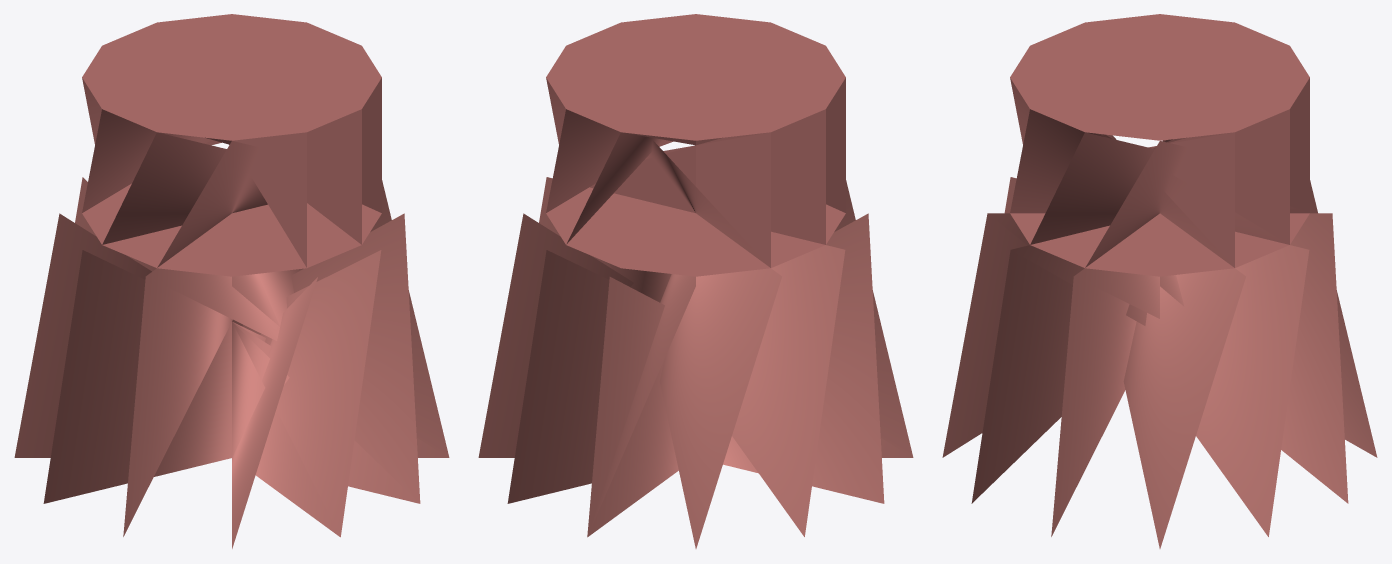
File: enemy_brute.glb
The picture shows the model from 3 angles, left to right: view 1: azimuth 30°, elevation 25°; view 2: azimuth 150°, elevation 25°; view 3: azimuth 270°, elevation 25°; orthographic projection.
Visible parts, largest first — view 1: body; view 2: body; view 3: body.
Part boxes in pixels (left/top/right/bottom): body: left=14, top=14, right=449, bottom=548; body: left=478, top=14, right=913, bottom=548; body: left=942, top=14, right=1377, bottom=548.
Bounding box in the file's own units: 1.16 × 1.12 × 1.16.
